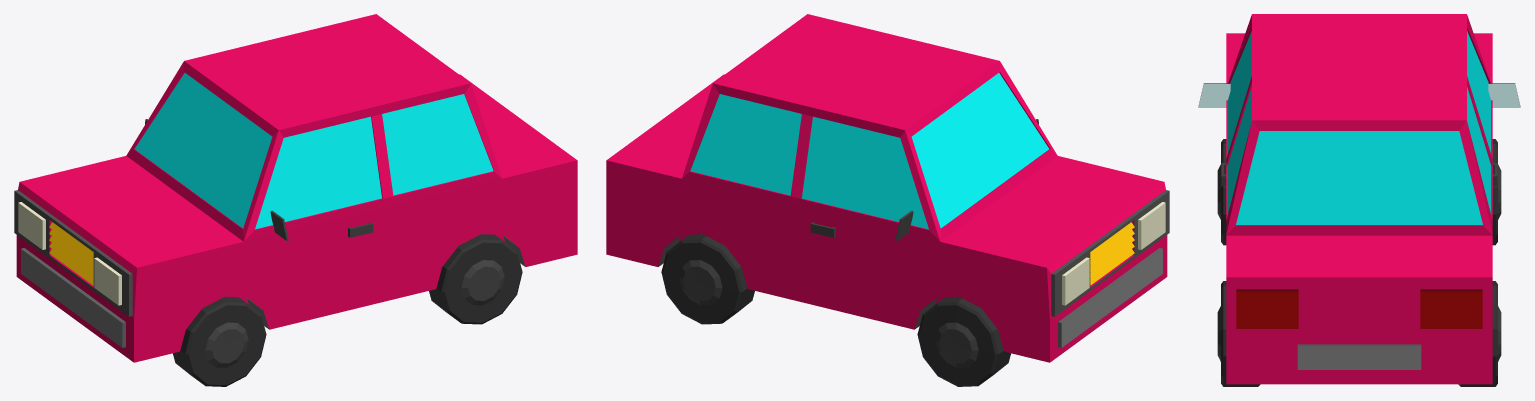
Rendered from regularCar.glb.
3 views of the same model, side by side, from view 1: azimuth 30°, elevation 25°; view 2: azimuth 150°, elevation 25°; view 3: azimuth 270°, elevation 25° (orthographic). The views are drawn at different scales.
Parts seen in each view (by area): view 1: Car; view 2: Car; view 3: Car.
Boxes of the visible parts, box(x1,y1,x2,y2) form: Car: box(14, 14, 577, 386); Car: box(606, 14, 1169, 386); Car: box(1198, 14, 1520, 386).
Bounding box in the file's own units: 3.35 × 1.63 × 1.81.
1 material, 1 textured.
